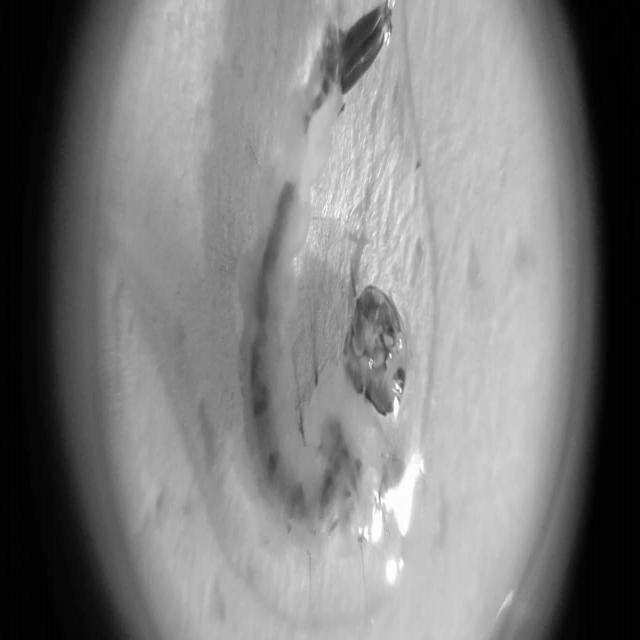larvas: (243, 2, 410, 548)
